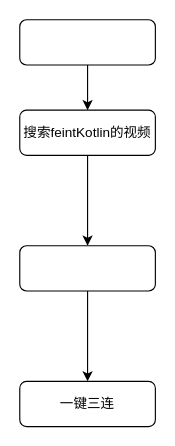
Some shapes in this 175 by 446 pixel diagram are drawn without their labels. The centre of each missing label's shape, as x and y in pixels:
"打开B站" goes at point 87,42.
"长按点赞按钮" goes at point 87,268.
